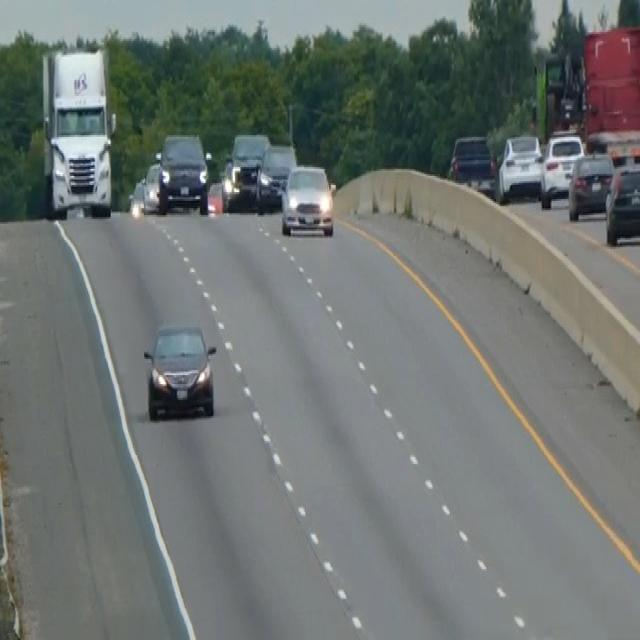car: (142, 322, 218, 421), (157, 130, 210, 215), (280, 162, 335, 238), (222, 130, 270, 208), (495, 130, 544, 202), (540, 130, 584, 206), (567, 150, 614, 220), (255, 140, 297, 212), (604, 160, 639, 245), (449, 132, 495, 196), (141, 160, 163, 212), (127, 176, 147, 217)
lorry: (39, 45, 118, 218)
